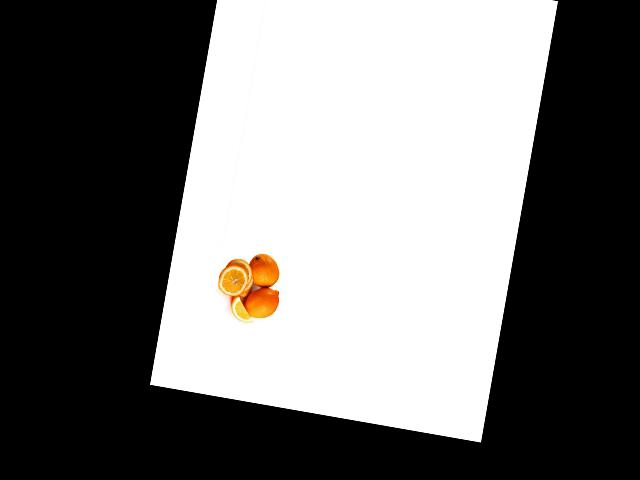lemon: (246, 253, 282, 293)
